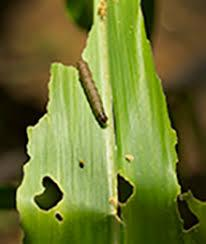fallarmy_worm: (65, 53, 114, 130)
